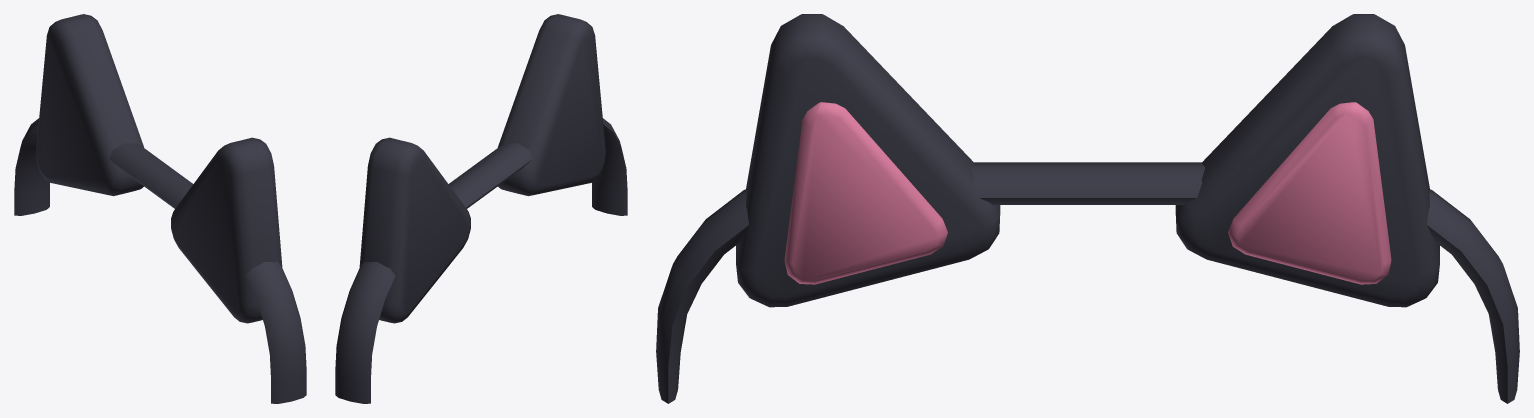
File: hat_cat_ears.glb
3 renders of one model, left to right at view 1: azimuth 30°, elevation 25°; view 2: azimuth 150°, elevation 25°; view 3: azimuth 270°, elevation 25°, orthographic. The views are drawn at different scales.
Visible parts, largest first — view 1: hat_cat_ears; view 2: hat_cat_ears; view 3: hat_cat_ears.
Part boxes in pixels (x1,y1,x2,y2): hat_cat_ears: (14,14,306,403); hat_cat_ears: (335,14,627,403); hat_cat_ears: (656,14,1519,403).
Bounding box in the file's own units: 0.057 × 0.2524 × 0.5394.
